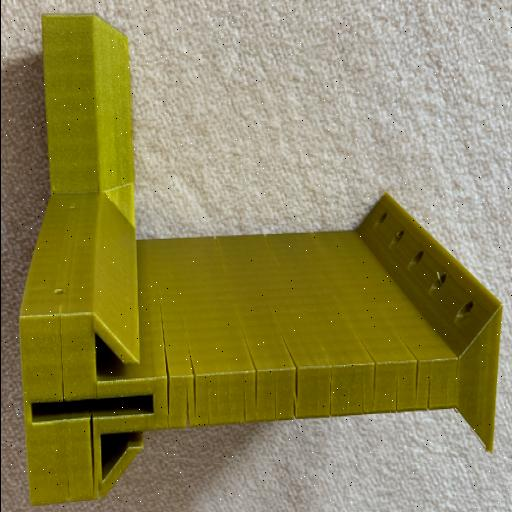cracks: (152, 299, 436, 431), (81, 405, 98, 494), (55, 314, 69, 403)
